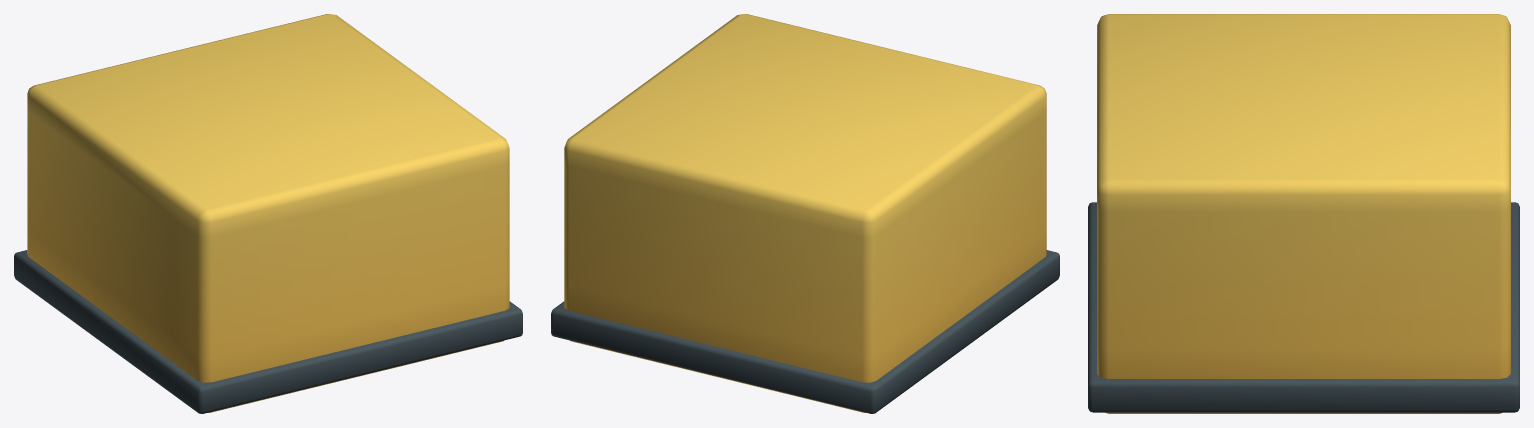
File: mct_homepart_roomup.fbx
3 renders of one model, left to right at view 1: azimuth 30°, elevation 25°; view 2: azimuth 150°, elevation 25°; view 3: azimuth 270°, elevation 25°, orthographic. The views are drawn at different scales.
Parts seen in each view (by area): view 1: room_up; view 2: room_up; view 3: room_up.
Boxes of the visible parts, x1,y1,x2,y2 form: room_up: (14, 14, 522, 413); room_up: (551, 14, 1059, 413); room_up: (1088, 14, 1519, 413).
Bounding box in the file's own units: 417 × 250 × 417.
